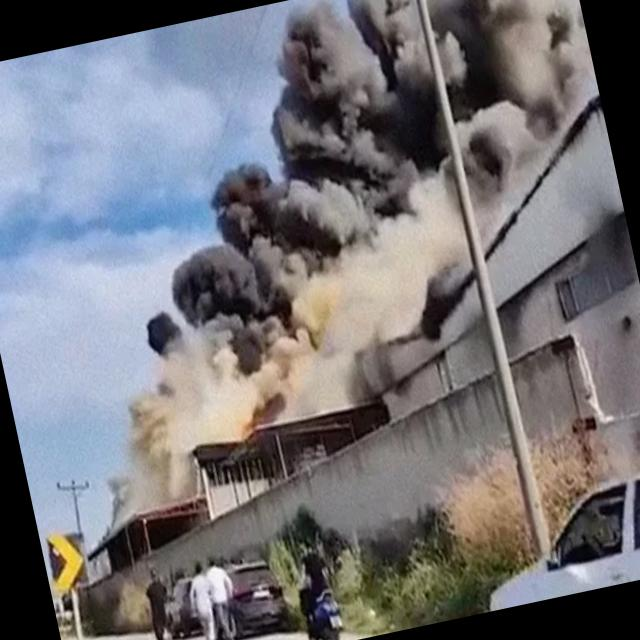Smoke: (17, 0, 640, 524)
